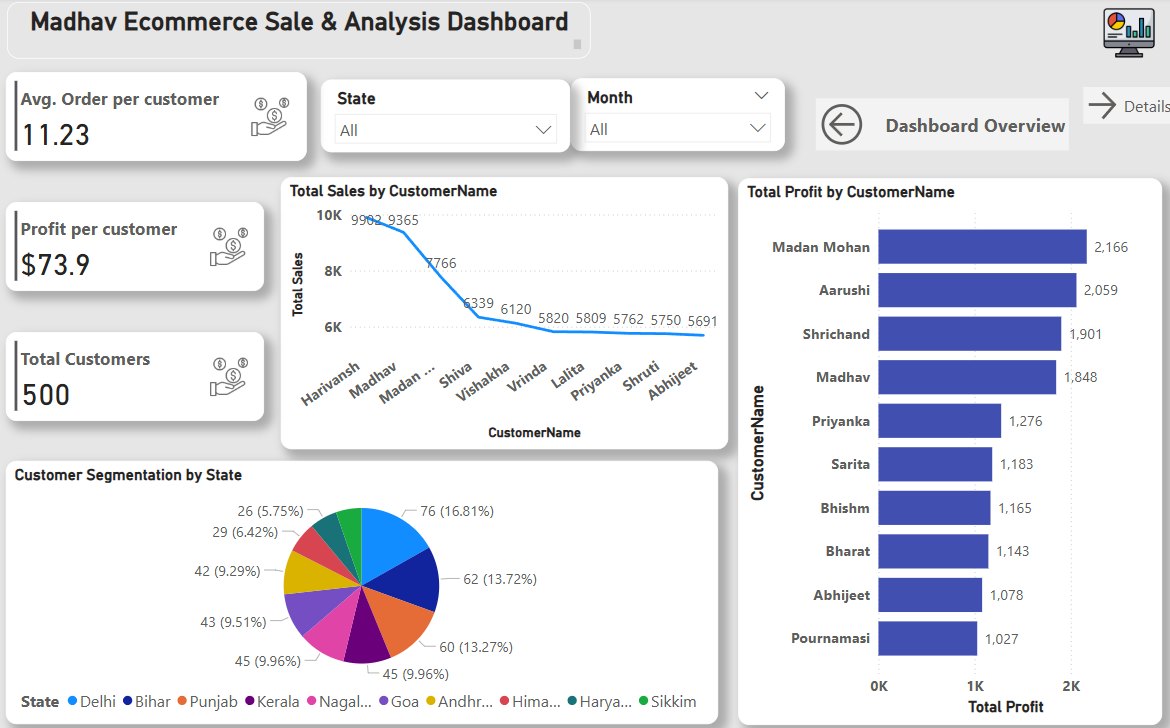

The page's visual inventory and layout, read from the dashboard file:
{"tool":"powerbi","page":{"name":"Customer Insight","canvas":[1300,800],"ordinal":1},"visuals":[{"type":"slicer","fields":{"Values":["Calendar table.Month"]},"box":[628.7,88.6,232.6,78.9],"z":1000},{"type":"slicer","fields":{"Values":["Orders.State"]},"box":[357.3,90,271.4,78.9],"z":2000},{"type":"lineChart","fields":{"Category":["Orders.CustomerName"],"Y":["All Measures.Total Sales"]},"box":[314.3,195.2,486,296.3],"z":3000},{"type":"textbox","title":"Madhav Ecommerce Sale & Analysis Dashboard","box":[15.7,5.7,634.3,61.4],"z":4000},{"type":"image","box":[1184.3,5.7,102.9,67.1],"z":5000},{"type":"actionButton","box":[1186.7,98.3,99.7,40.2],"z":6000},{"type":"cardVisual","fields":{"Data":["All Measures.Avg. Order per customer"]},"box":[15.2,81.7,326.8,96.9],"z":7000},{"type":"cardVisual","fields":{"Data":["All Measures.Count of Order id"]},"box":[15.2,364.2,281.1,96.9],"z":8000},{"type":"cardVisual","fields":{"Data":["All Measures.Profit per customer"]},"box":[15.2,222.9,281.1,96.9],"z":9000},{"type":"actionButton","box":[895.9,109.4,275.6,56.8],"z":10000},{"type":"clusteredBarChart","fields":{"Category":["Orders.CustomerName"],"Y":["All Measures.Total Profit"]},"box":[811.5,196.6,461.1,594.1],"z":11000},{"type":"pieChart","title":"Customer Segmentation by State","fields":{"Category":["Orders.State"],"Y":["Details.Order ID"]},"box":[15.2,504,774.1,286.6],"z":12000}]}

Visuals, with their boxes in screenshot pixels (x1, y1, x2, y2), scaled from the page's 1300x800 canvas onto the 1170x728 screenshot:
slicer - Calendar table.Month: crop(566, 81, 775, 152)
slicer - Orders.State: crop(322, 82, 566, 154)
lineChart - Orders.CustomerName x All Measures.Total Sales: crop(283, 178, 720, 447)
"Madhav Ecommerce Sale & Analysis Dashboard" textbox: crop(14, 5, 585, 61)
image: crop(1066, 5, 1158, 66)
actionButton: crop(1068, 89, 1158, 126)
cardVisual - All Measures.Avg. Order per customer: crop(14, 74, 308, 163)
cardVisual - All Measures.Count of Order id: crop(14, 331, 267, 420)
cardVisual - All Measures.Profit per customer: crop(14, 203, 267, 291)
actionButton: crop(806, 100, 1054, 151)
clusteredBarChart - Orders.CustomerName x All Measures.Total Profit: crop(730, 179, 1145, 720)
"Customer Segmentation by State" pieChart: crop(14, 459, 710, 719)
